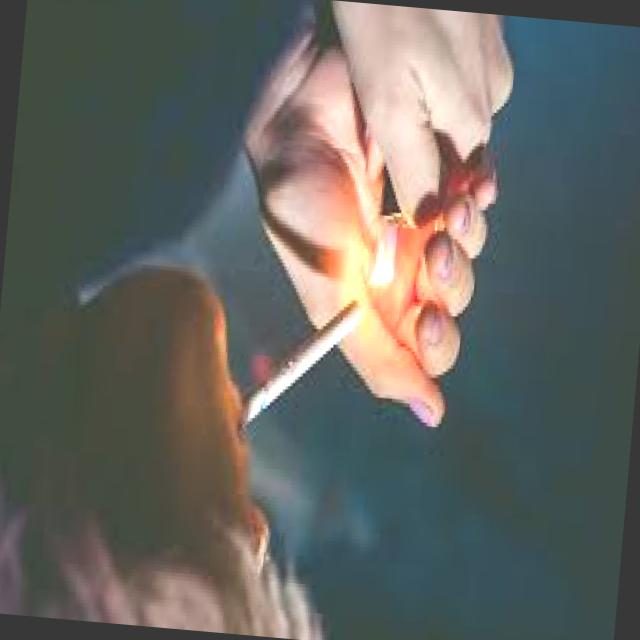cigarette: (228, 254, 366, 437)
